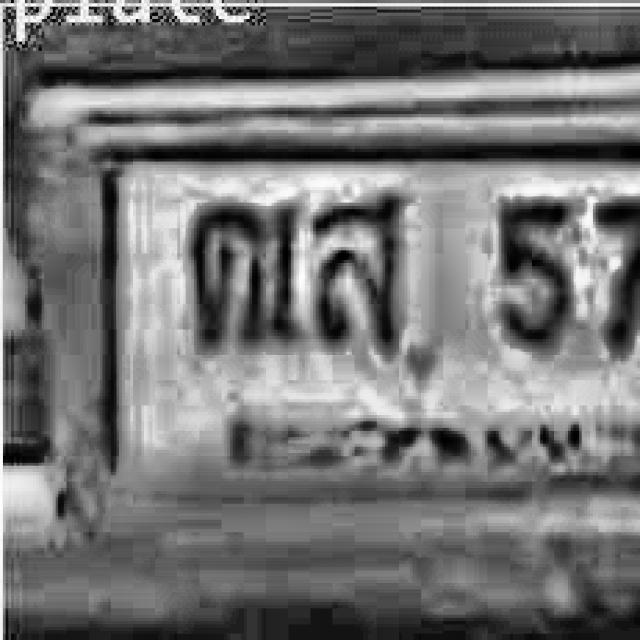license-plate: (39, 77, 640, 532)
